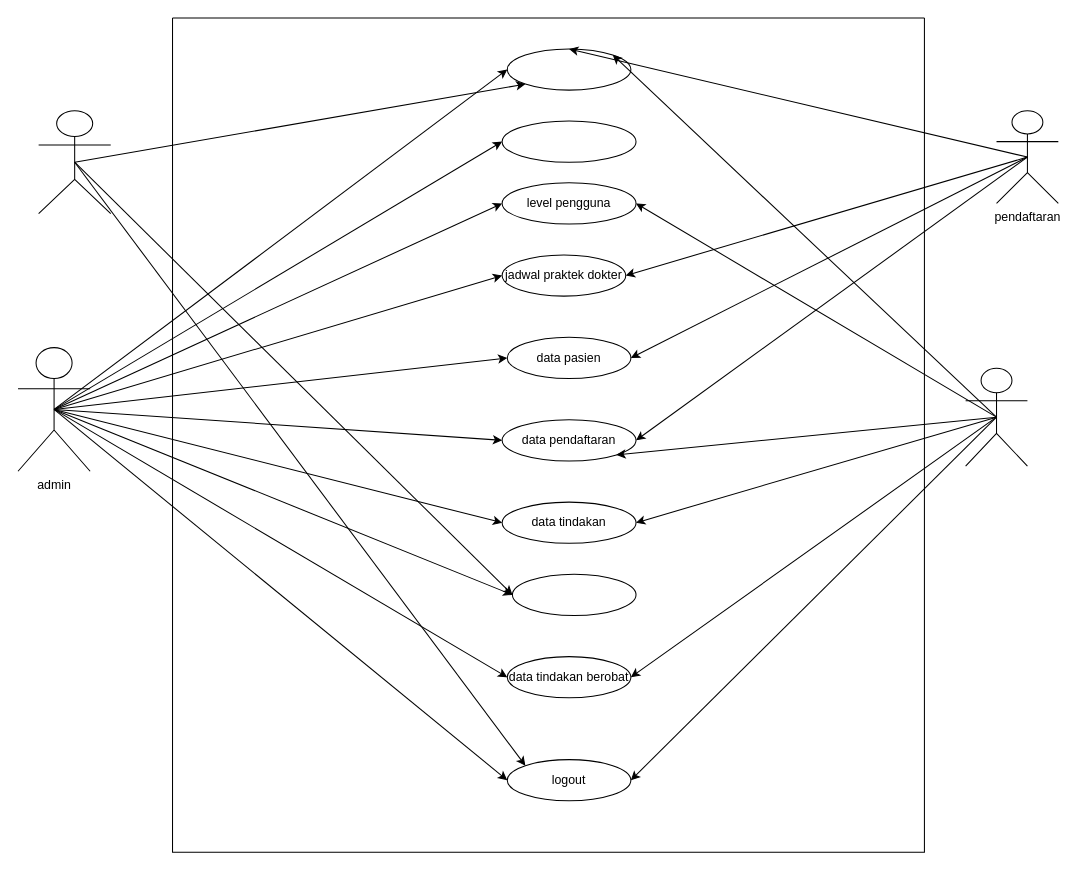
The diagram is 1078 pixels wide and 870 high, and some of its shapes have lost their labels. The shapes that lost their labels are listed below. From the top down, each one's centre as x and y in pixels, then its label:
At (568,69): "login".
At (568,141): "kelola pengguna".
At (74,162): "apotek".
At (996,416): "dokter".
At (573,594): "data obat".
